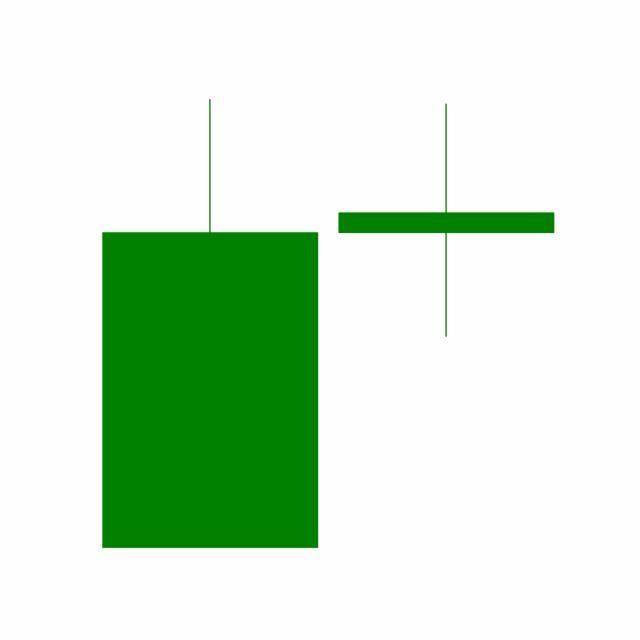Spinning Top: (328, 102, 566, 340)
